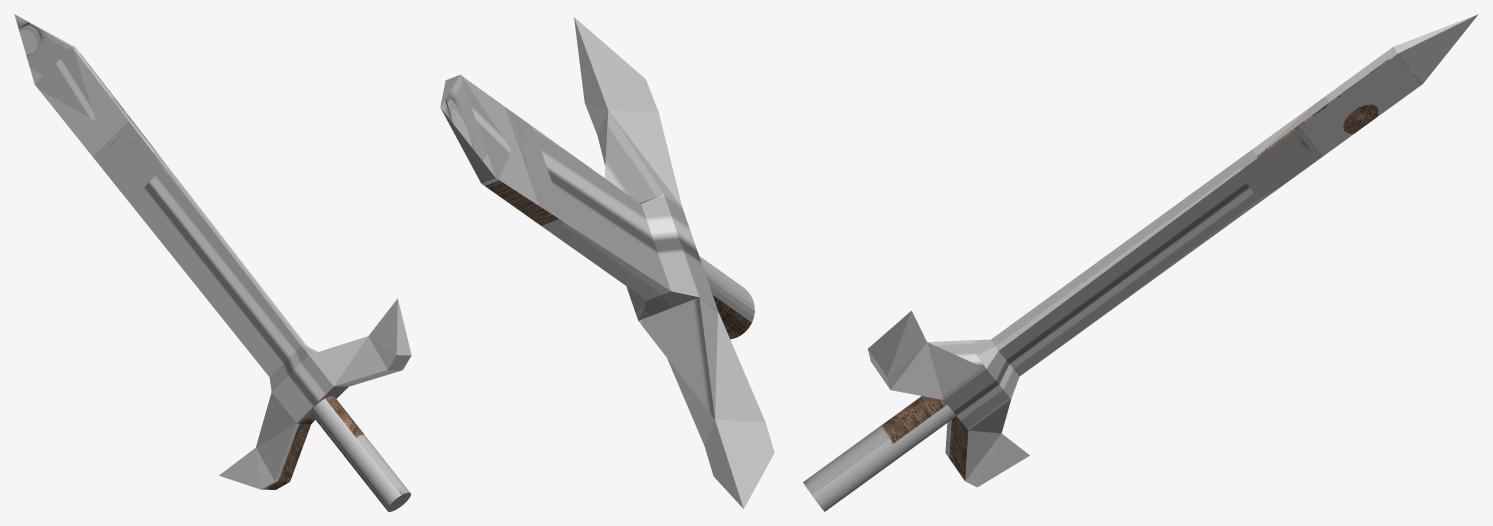
File: Protagonista123.obj
3 renders of one model, left to right at view 1: azimuth 30°, elevation 25°; view 2: azimuth 150°, elevation 25°; view 3: azimuth 270°, elevation 25°, orthographic. The views are drawn at different scales.
Visible parts, largest first — view 1: Cube; view 2: Cube; view 3: Cube.
Boxes of the visible parts, box(x1,y1,x2,y2) form: Cube: box(14, 14, 411, 511); Cube: box(440, 17, 774, 508); Cube: box(803, 14, 1478, 511).
Size of the model in its own units: 0.5142 by 1.02 by 1.44.
Materials: 1 (1 with a texture image).
